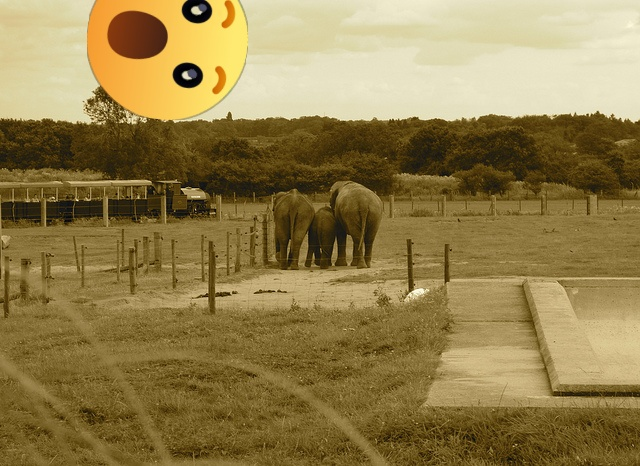wow: (87, 0, 248, 120)
